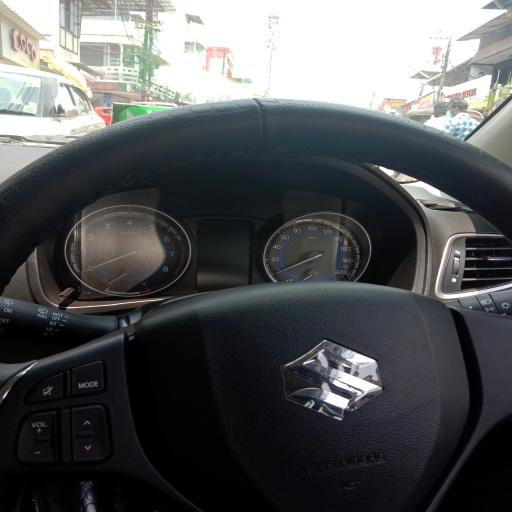tachometer: (64, 204, 192, 296)
